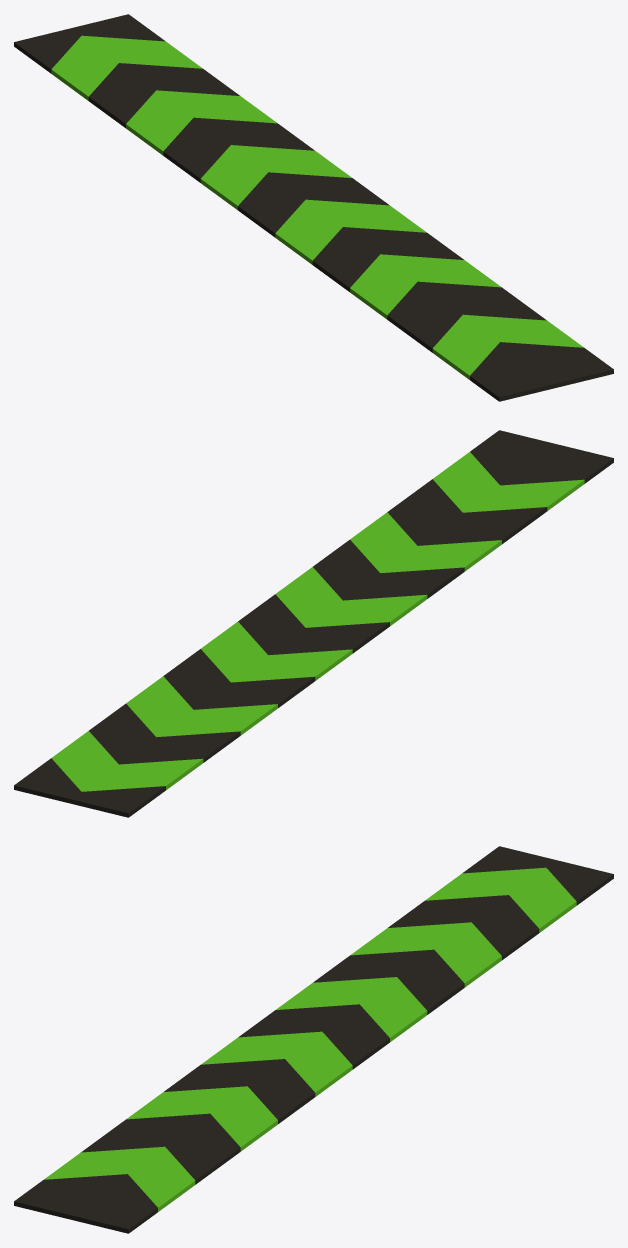
The model's file is renkli_yol.fbx.
The picture shows the model from 3 angles, top to bottom: view 1: azimuth 30°, elevation 25°; view 2: azimuth 150°, elevation 25°; view 3: azimuth 330°, elevation 25°; orthographic projection.
Parts seen in each view (by area): view 1: Plane; view 2: Plane; view 3: Plane.
Boxes of the visible parts, box(x1,y1,x2,y2) form: Plane: box(14, 14, 613, 401); Plane: box(14, 430, 613, 817); Plane: box(14, 846, 613, 1233).
Size of the model in its own units: 270 by 10 by 1979.
